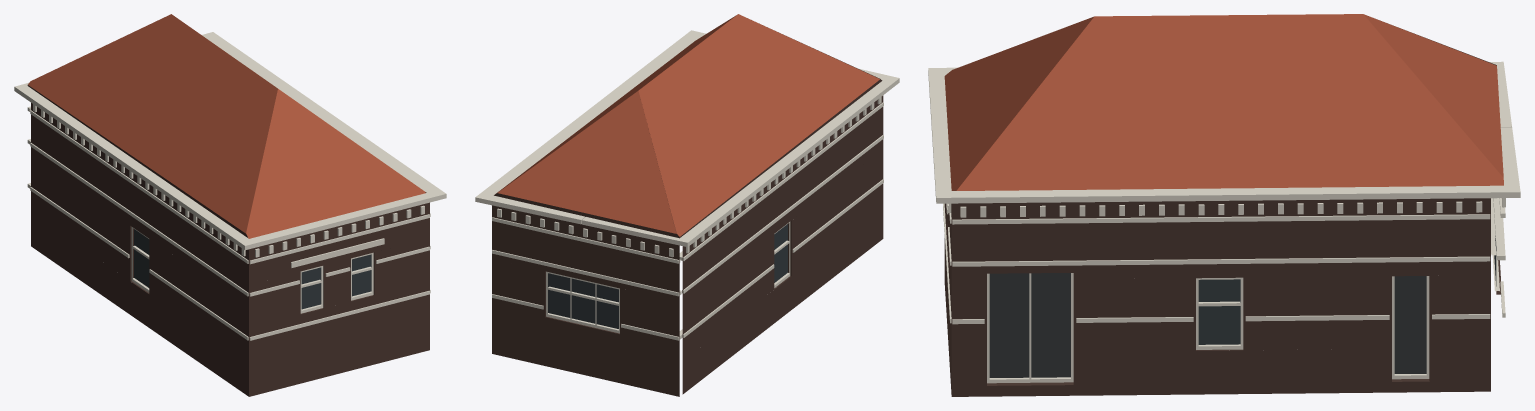
The model's file is westergas-gosschalklaan-12.glb.
3 renders of one model, left to right at view 1: azimuth 30°, elevation 25°; view 2: azimuth 150°, elevation 25°; view 3: azimuth 270°, elevation 25°, orthographic. The views are drawn at different scales.
Parts seen in each view (by area): view 1: westergas-gosschalklaan-12; view 2: westergas-gosschalklaan-12; view 3: westergas-gosschalklaan-12.
Boxes of the visible parts, <box> form: westergas-gosschalklaan-12: <box>14,14,446,396</box>; westergas-gosschalklaan-12: <box>475,14,899,396</box>; westergas-gosschalklaan-12: <box>928,14,1520,396</box>.
Bounding box in the file's own units: 8.17 × 8.93 × 15.02.
